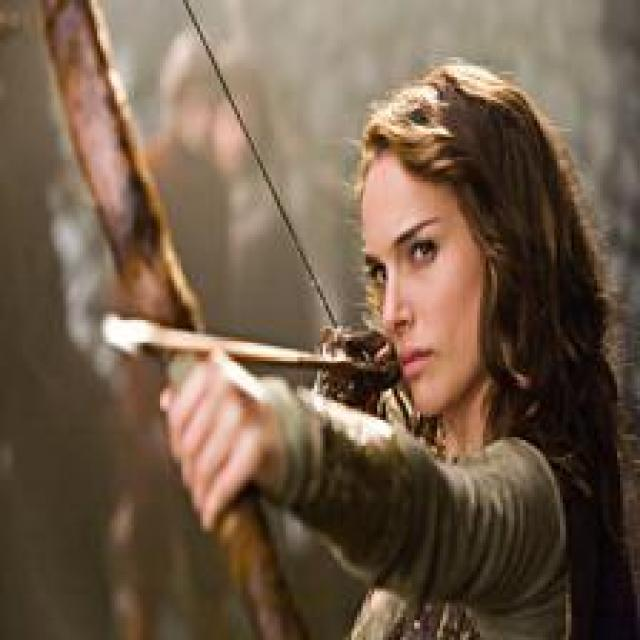X-Bow: (43, 11, 366, 640)
